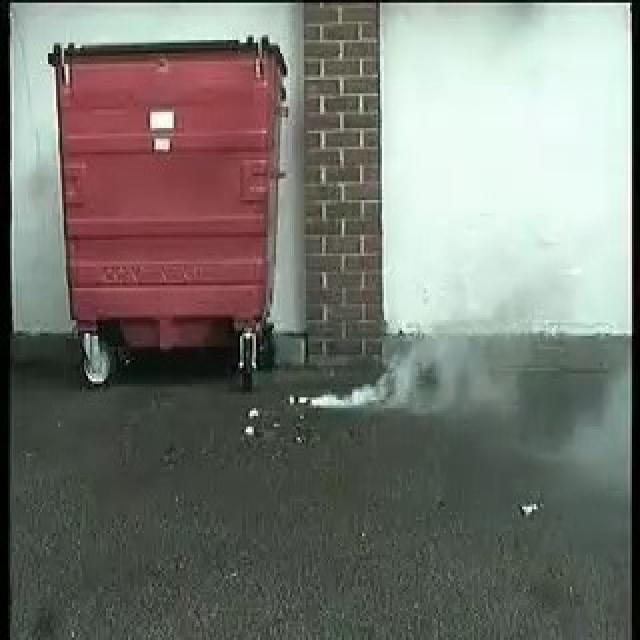smoke: (317, 342, 466, 418)
